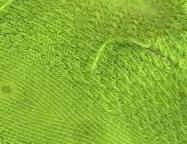snag: (87, 33, 153, 76)
